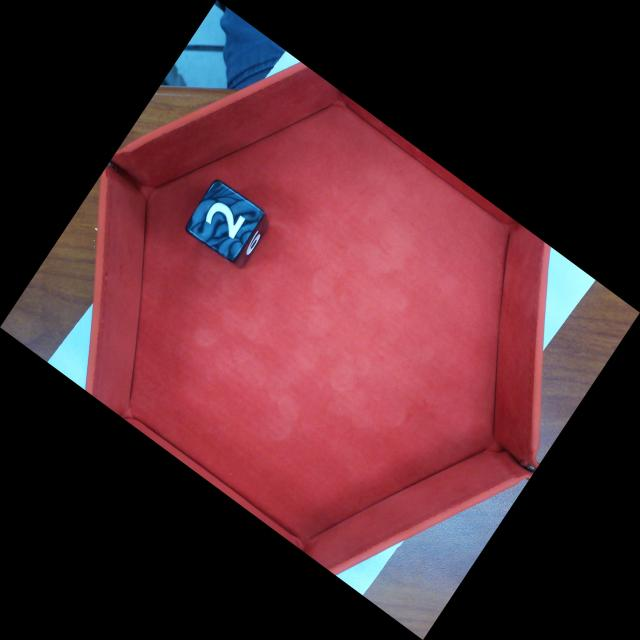dice: (180, 174, 268, 264)
